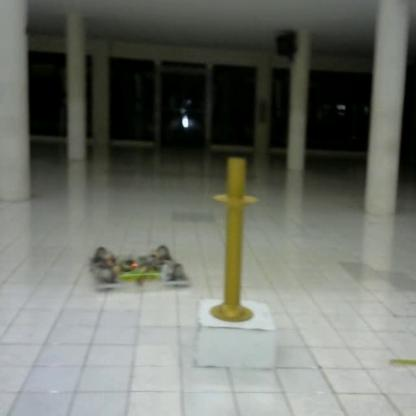pole: (205, 143, 266, 329)
